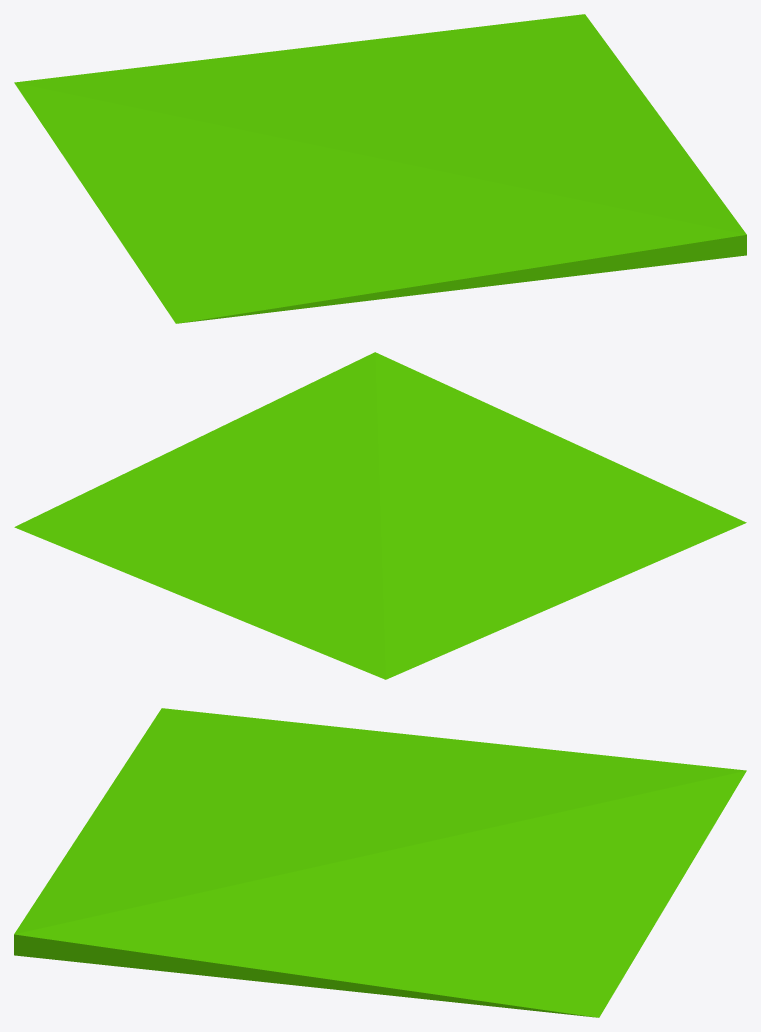
The model's file is coffee_convex_piece_020.obj.
3 renders of one model, top to bottom at view 1: azimuth 30°, elevation 25°; view 2: azimuth 150°, elevation 25°; view 3: azimuth 270°, elevation 25°, orthographic. The views are drawn at different scales.
Size of the model in its own units: 0.000253 by 8e-06 by 0.000253.
